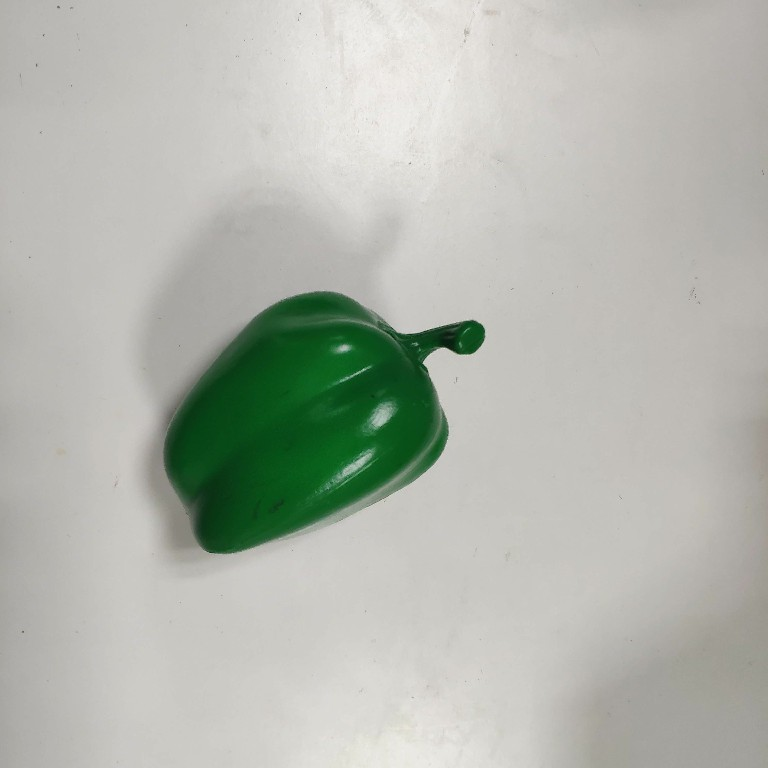fruit_pepper: (159, 285, 490, 561)
